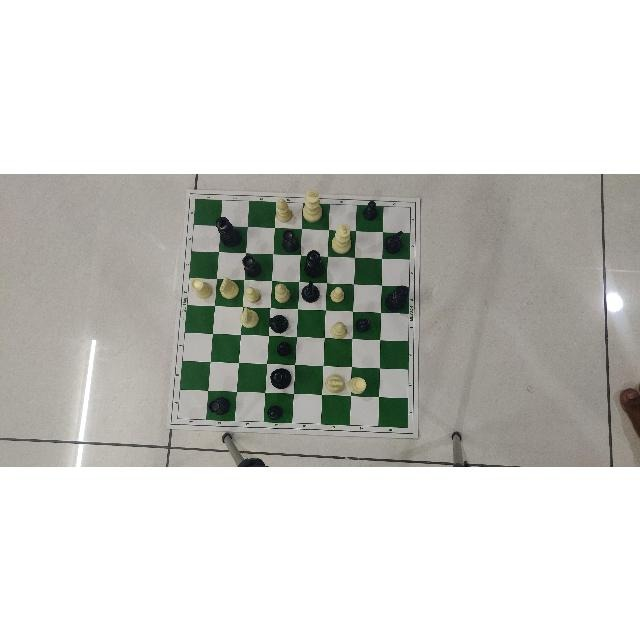black-king: (215, 215, 241, 247), (384, 284, 410, 313)
black-knight: (382, 229, 404, 253), (301, 279, 321, 303), (267, 313, 290, 333)
black-pawn: (363, 199, 379, 221), (265, 403, 284, 421), (354, 315, 372, 333), (275, 340, 294, 356)
black-queen: (304, 250, 326, 278), (270, 367, 292, 390)
black-rook: (240, 253, 264, 278), (207, 394, 232, 415), (281, 229, 301, 255), (347, 375, 367, 395)
white-bishop: (273, 197, 292, 222), (329, 320, 349, 340), (272, 282, 291, 303)
white-king: (303, 189, 323, 223), (332, 221, 352, 254)
white-knight: (219, 275, 241, 299), (325, 372, 345, 393), (240, 306, 258, 328)
white-pawn: (329, 284, 345, 303), (245, 286, 261, 302)
white-rook: (190, 274, 214, 299)
